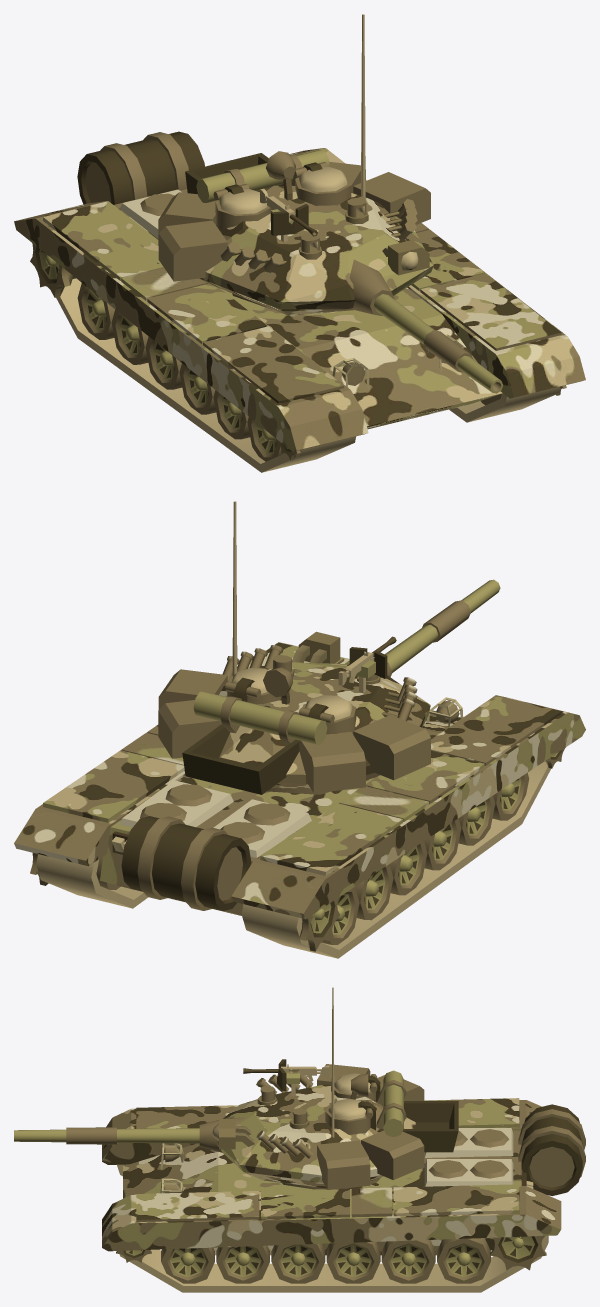
File: tank.gltf
The picture shows the model from 3 angles, top to bottom: view 1: azimuth 30°, elevation 25°; view 2: azimuth 150°, elevation 25°; view 3: azimuth 270°, elevation 25°; orthographic projection. The views are drawn at different scales.
Parts seen in each view (by area): view 1: tank_001, tank_tower_001, tank_gun_001; view 2: tank_001, tank_tower_001, tank_gun_001; view 3: tank_001, tank_tower_001, tank_gun_001.
Boxes of the visible parts, left/top/right/bottom form: tank_001: left=14, top=131, right=585, bottom=472; tank_tower_001: left=158, top=14, right=433, bottom=315; tank_gun_001: left=349, top=259, right=503, bottom=393; tank_001: left=14, top=642, right=585, bottom=958; tank_tower_001: left=158, top=501, right=430, bottom=794; tank_gun_001: left=347, top=579, right=500, bottom=677; tank_001: left=102, top=1098, right=585, bottom=1292; tank_tower_001: left=212, top=987, right=458, bottom=1189; tank_gun_001: left=14, top=1117, right=245, bottom=1152.
Bounding box in the file's own units: 0.9929 × 1.12 × 2.09.
